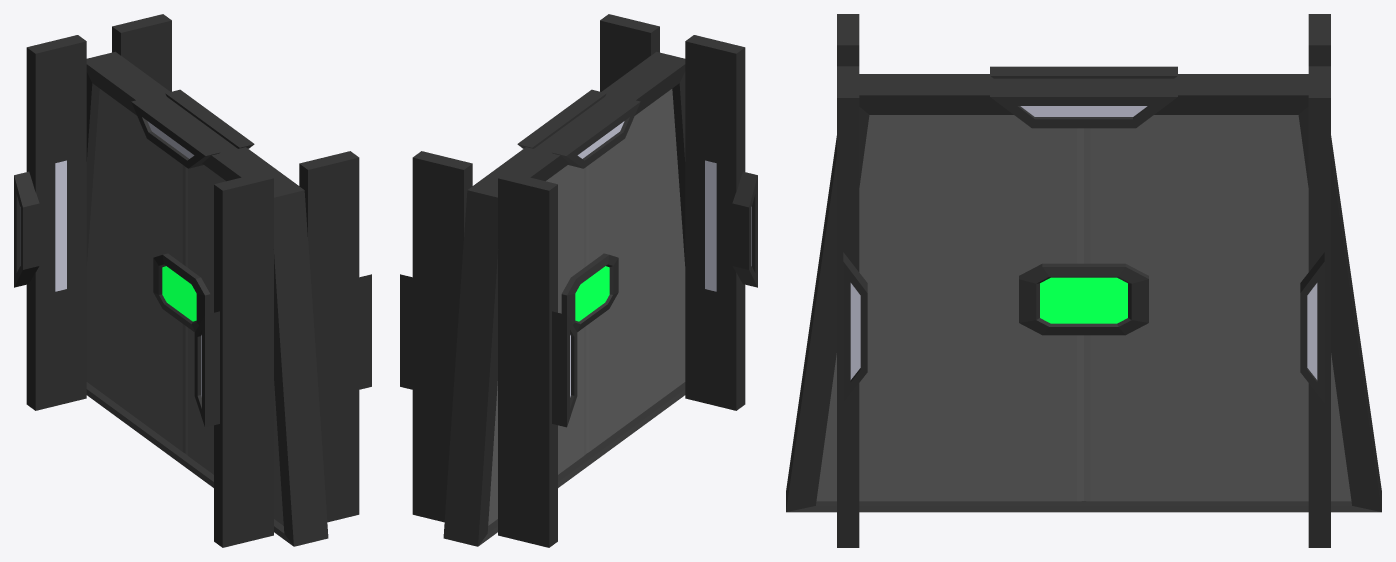
Rendered from NLIDoorway.glb.
3 views of the same model, side by side, from view 1: azimuth 30°, elevation 25°; view 2: azimuth 150°, elevation 25°; view 3: azimuth 270°, elevation 25° (orthographic). The views are drawn at different scales.
Parts seen in each view (by area): view 1: Door1, Doorway, DoorPost.004, DoorPost, DoorPost.005, Door2, DoorPost.001, Lock, DoorHighlight, DoorHighlight.002, DoorHighlight.003, DoorHighlight.005 (+1 smaller); view 2: Door2, Doorway, DoorPost, DoorPost.004, DoorPost.001, Door1, DoorPost.005, Lock, DoorHighlight, DoorHighlight.003, DoorHighlight.002, DoorHighlight.004 (+1 smaller); view 3: Door1, Door2, Doorway, DoorPost.001, DoorPost.005, Lock.001, DoorHighlight.001, DoorHighlight.004, DoorHighlight.005, DoorHighlight, DoorPost, DoorPost.004.
Part boxes in pixels (x1,y1,x2,y2): Door1: (86,89,185,453); Doorway: (86,51,328,546); DoorPost.004: (214,172,273,547); DoorPost: (26,35,86,410); DoorPost.005: (299,151,359,522); Door2: (185,165,283,525); DoorPost.001: (112,14,171,91); Lock: (153,253,210,332); DoorHighlight: (131,98,220,168); DoorHighlight.002: (14,171,39,287); DoorHighlight.003: (194,311,219,427); DoorHighlight.005: (359,274,371,389); Door2: (586,89,685,453); Doorway: (443,51,685,546); DoorPost: (498,172,557,547); DoorPost.004: (685,35,745,410); DoorPost.001: (412,151,472,522); Door1: (488,165,586,525); DoorPost.005: (600,14,659,91); Lock: (561,253,618,332); DoorHighlight: (551,98,640,168); DoorHighlight.003: (732,171,757,287); DoorHighlight.002: (552,311,577,427); DoorHighlight.004: (400,274,412,389); Door1: (1084,115,1351,501); Door2: (816,115,1083,501); Doorway: (786,74,1381,512); DoorPost.001: (1308,66,1330,547); DoorPost.005: (837,66,859,547); Lock.001: (1019,263,1148,335); DoorHighlight.001: (990,87,1177,128); DoorHighlight.004: (1300,252,1324,402); DoorHighlight.005: (843,252,867,402); DoorHighlight: (990,66,1177,78); DoorPost: (1308,14,1330,66); DoorPost.004: (837,14,859,66).
Size of the model in its own units: 1.98 by 4 by 4.8.
